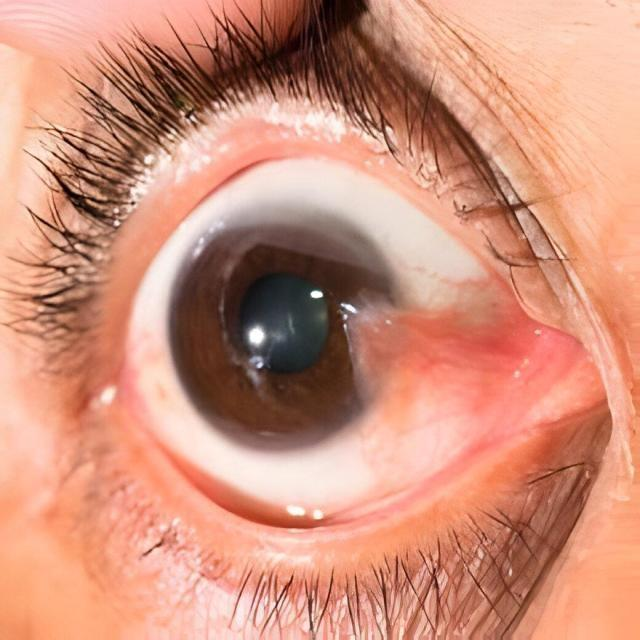Pterygium: (332, 272, 570, 460)
